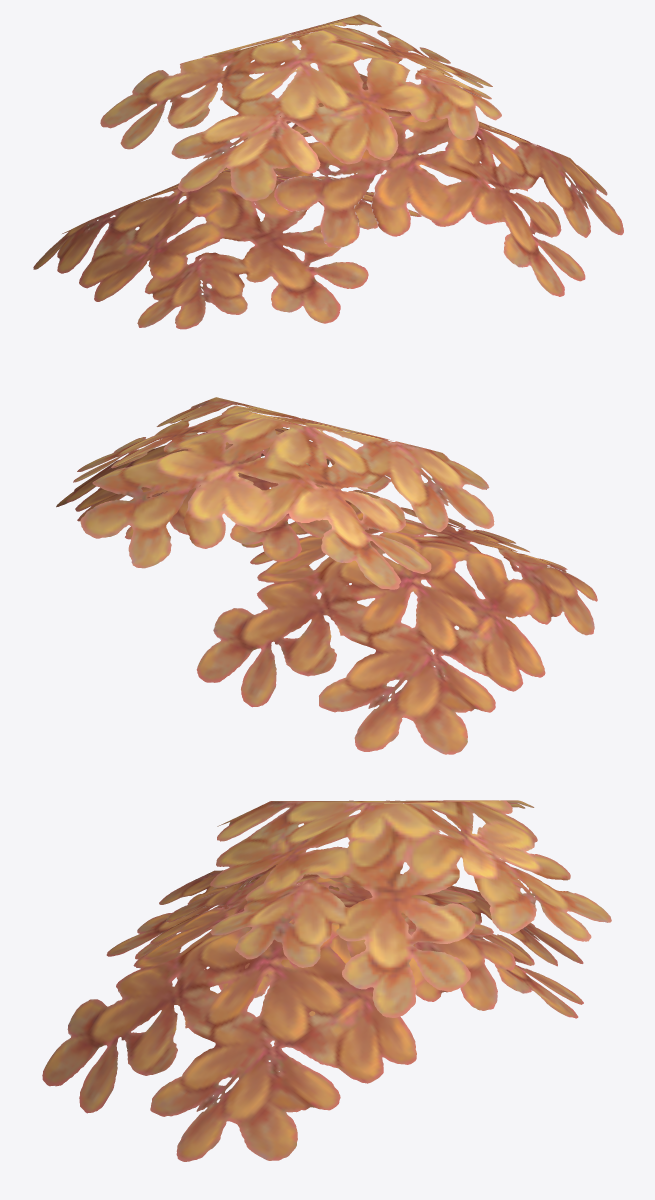
File: Map_08_grass02.FBX
3 renders of one model, top to bottom at view 1: azimuth 30°, elevation 25°; view 2: azimuth 150°, elevation 25°; view 3: azimuth 270°, elevation 25°, orthographic. The views are drawn at different scales.
Parts seen in each view (by area): view 1: Map_08_grass02; view 2: Map_08_grass02; view 3: Map_08_grass02.
Part boxes in pixels (left/top/right/bottom): Map_08_grass02: left=33, top=14, right=623, bottom=329; Map_08_grass02: left=56, top=397, right=597, bottom=754; Map_08_grass02: left=42, top=800, right=611, bottom=1161.
Bounding box in the file's own units: 113 × 47.16 × 97.78.
